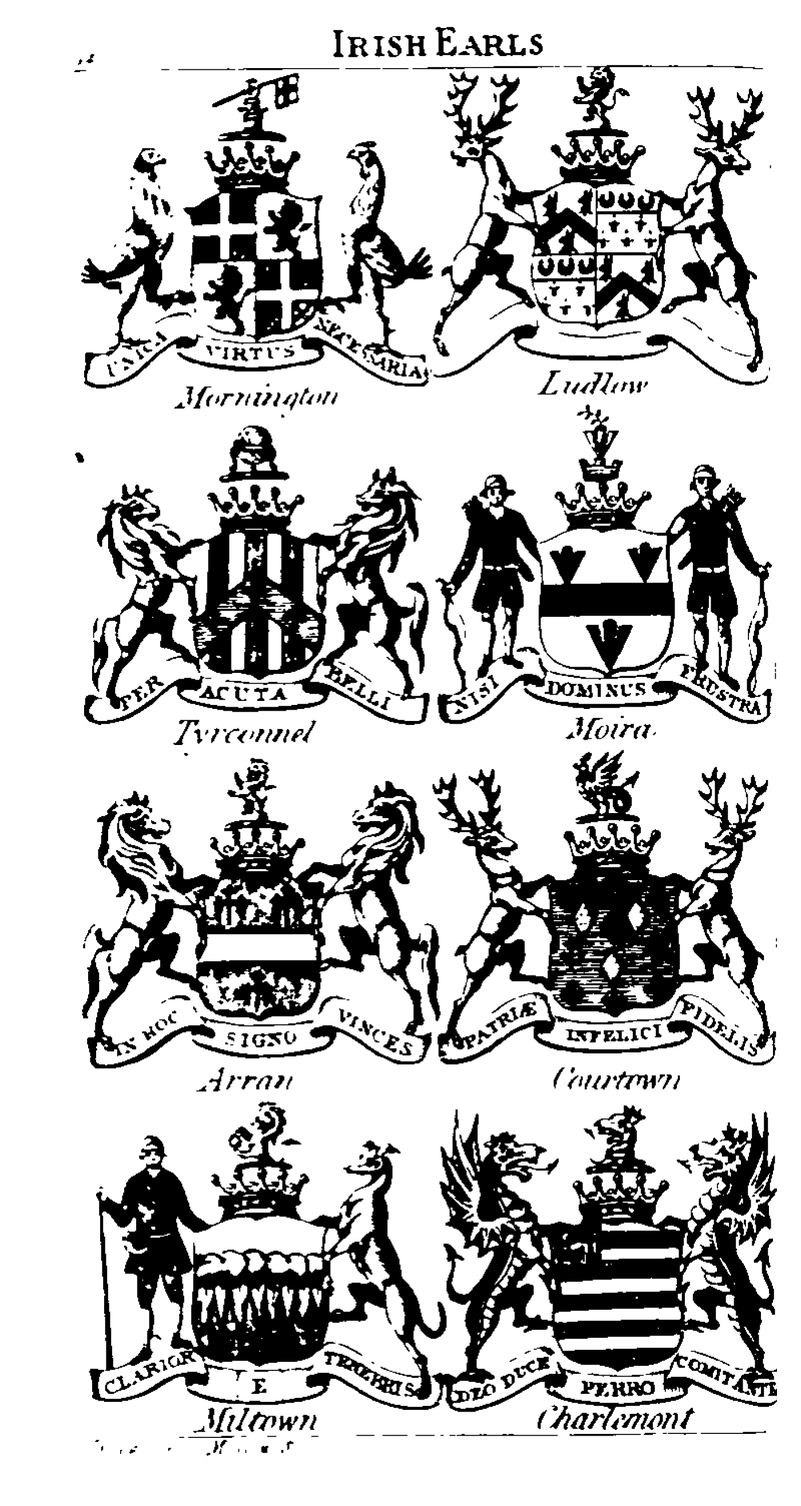coat_of_arms: (71, 70, 431, 421), (81, 1097, 439, 1448), (75, 421, 435, 765), (429, 754, 781, 1105), (433, 1096, 785, 1446), (72, 755, 443, 1087), (431, 399, 776, 752), (433, 67, 780, 403)
